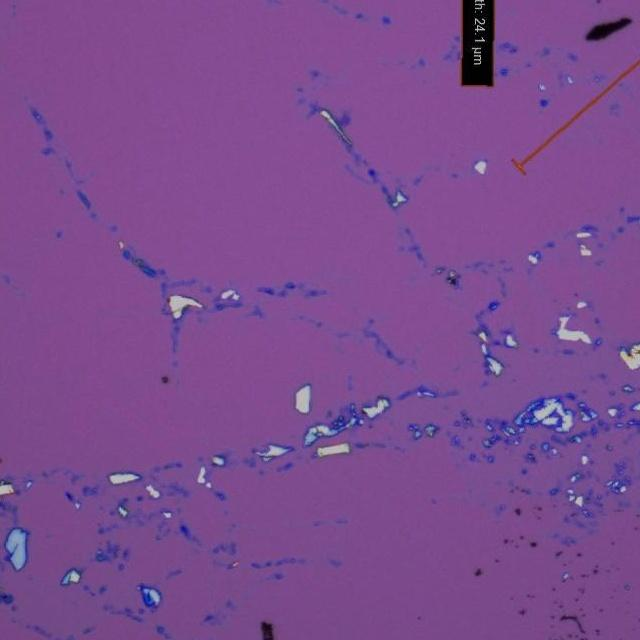monolayer-eWW4: (336, 112, 352, 127)
